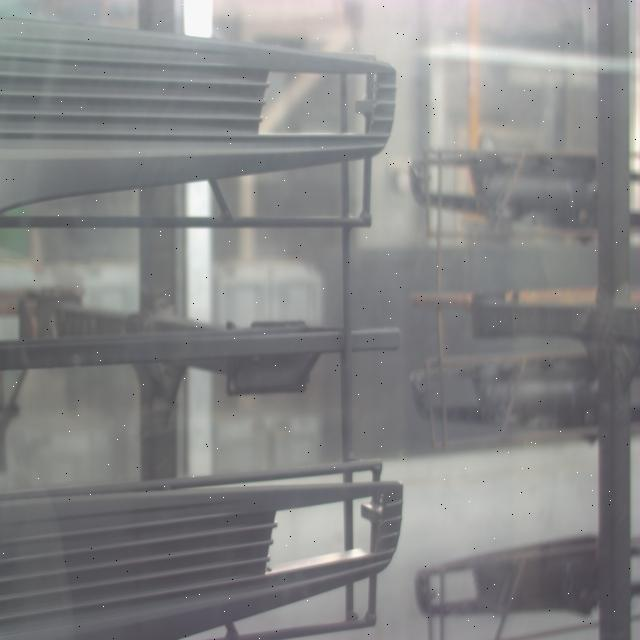Primered: (0, 28, 399, 212), (0, 462, 404, 640)
